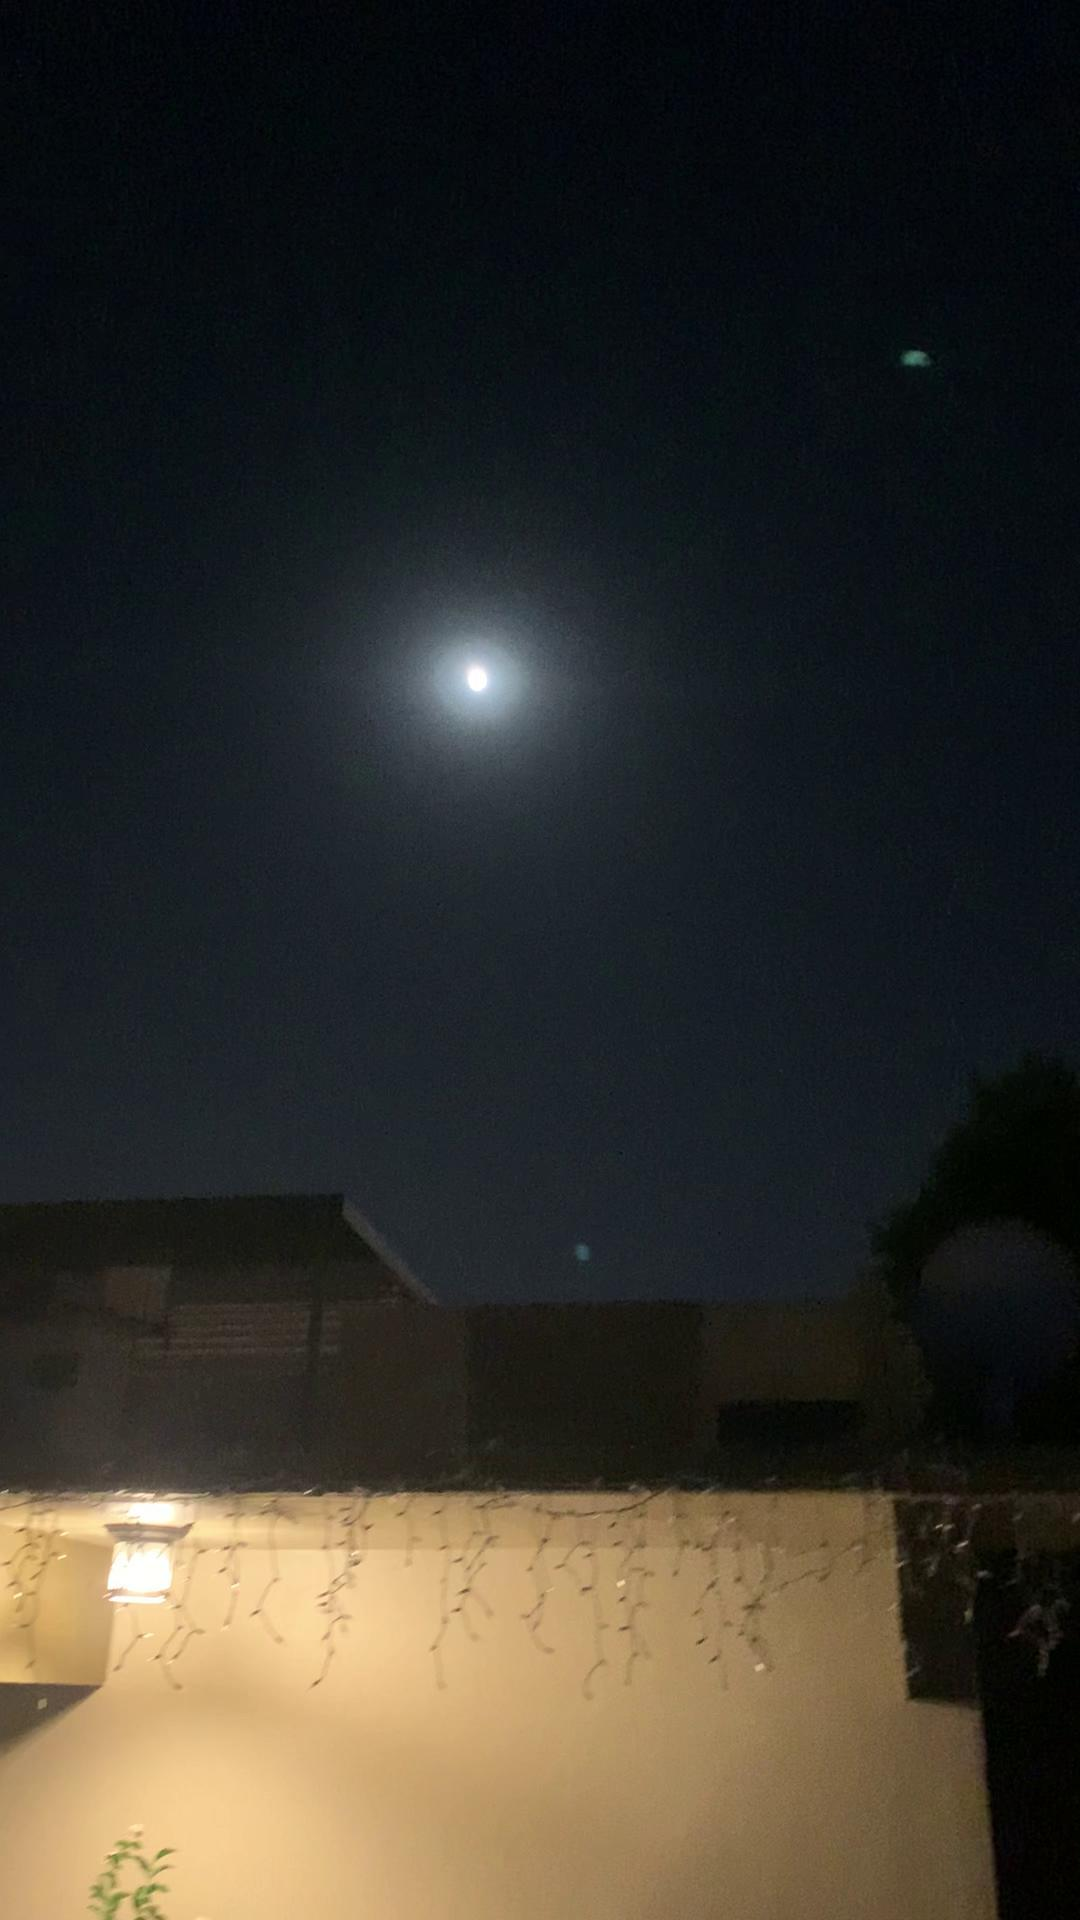moon: (448, 640, 535, 719)
